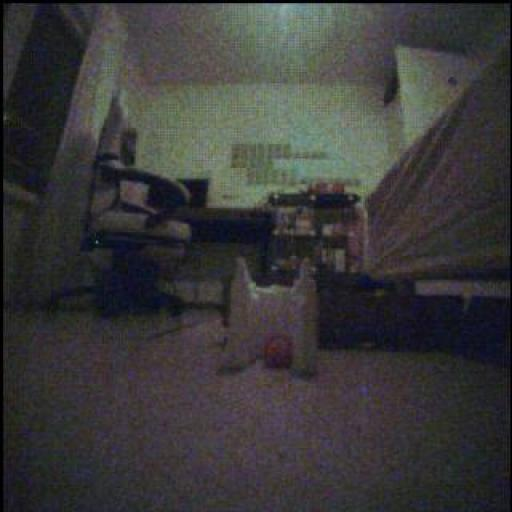basket: (260, 334, 293, 372)
